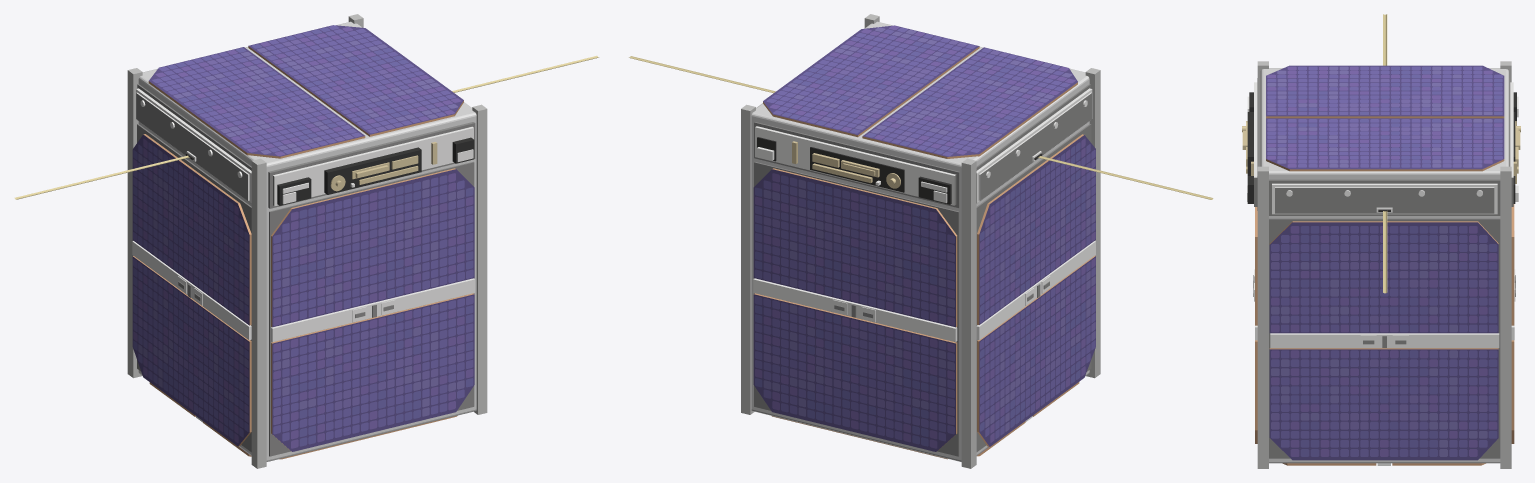
The model's file is cubesat-1u.glb.
3 views of the same model, side by side, from view 1: azimuth 30°, elevation 25°; view 2: azimuth 150°, elevation 25°; view 3: azimuth 270°, elevation 25° (orthographic). The views are drawn at different scales.
Parts seen in each view (by area): view 1: Layer_0; view 2: Layer_0; view 3: Layer_0.
Boxes of the visible parts, x1,y1,x2,y2 form: Layer_0: (14,14,598,468); Layer_0: (629,14,1213,468); Layer_0: (1242,14,1520,468).
Size of the model in its own units: 5.19 by 2.6 by 2.2.
